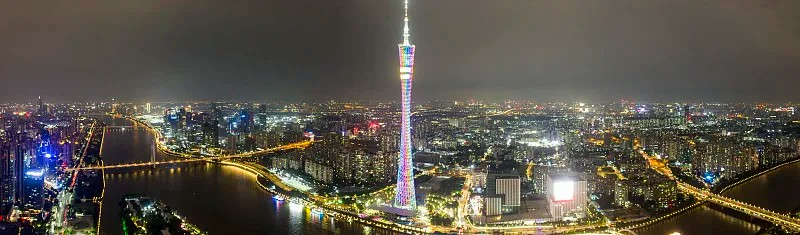Canton: (388, 1, 420, 210)
